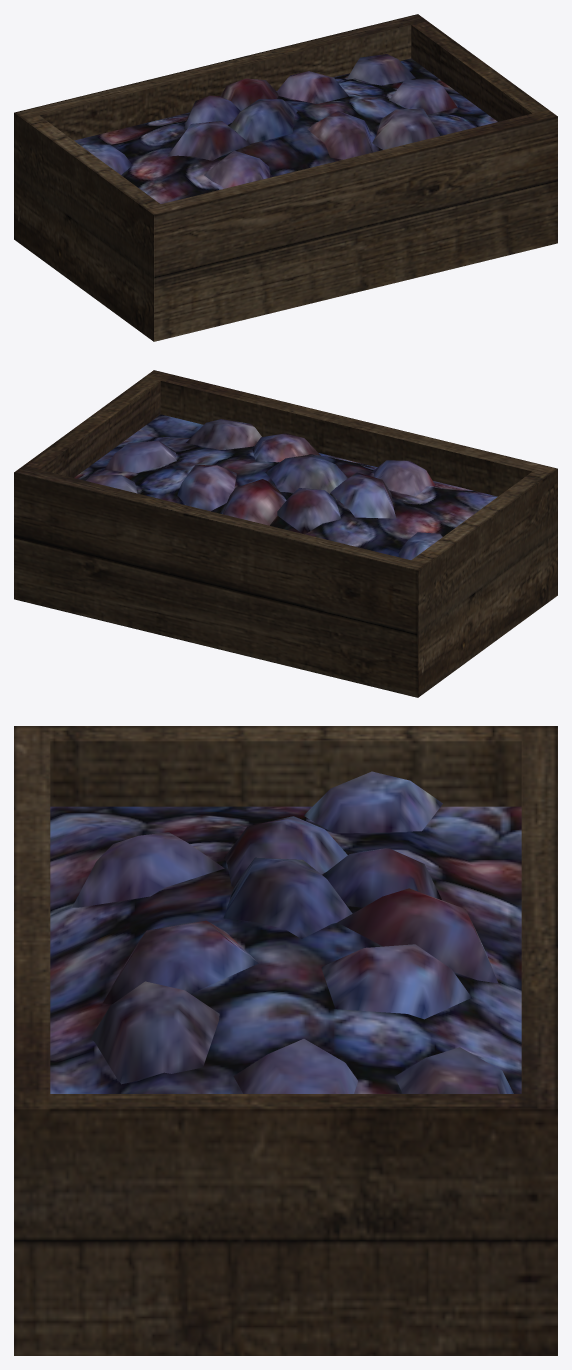
Rendered from Fruits4.fbx.
3 renders of one model, top to bottom at view 1: azimuth 30°, elevation 25°; view 2: azimuth 150°, elevation 25°; view 3: azimuth 270°, elevation 25°, orthographic. The views are drawn at different scales.
Parts seen in each view (by area): view 1: polySurface105; view 2: polySurface105; view 3: polySurface105.
Part boxes in pixels (x1,y1,x2,y2): polySurface105: (14,14,557,341); polySurface105: (14,370,557,697); polySurface105: (14,726,557,1355).
Size of the model in its own units: 3.91 by 1.33 by 2.34.
